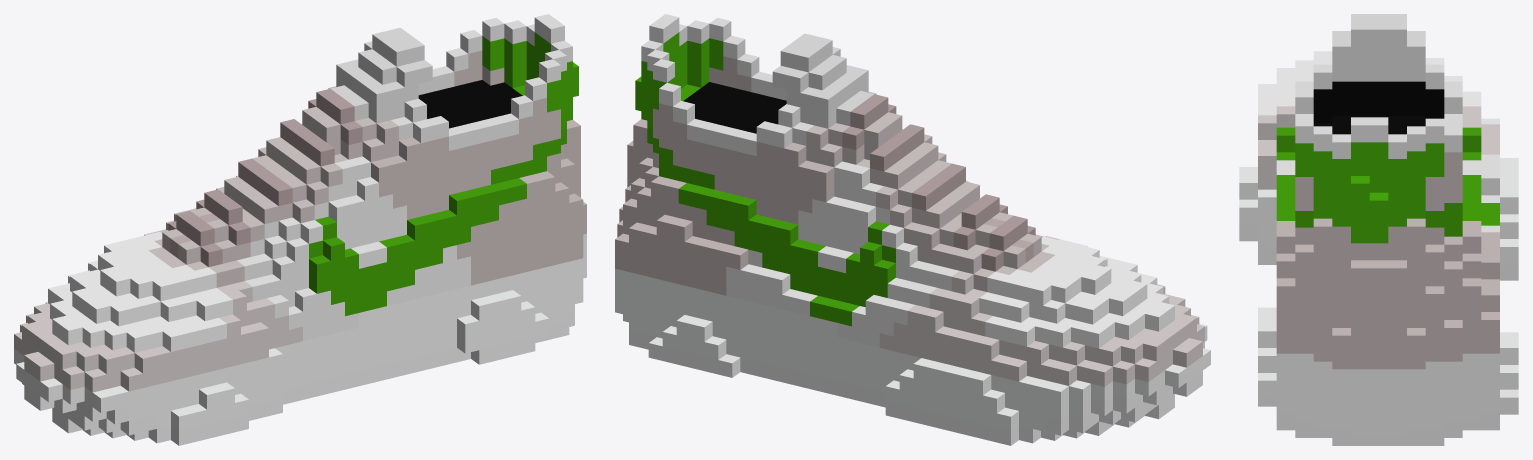
File: Blade o Grass.fbx
The picture shows the model from 3 angles, left to right: view 1: azimuth 30°, elevation 25°; view 2: azimuth 150°, elevation 25°; view 3: azimuth 270°, elevation 25°; orthographic projection. The views are drawn at different scales.
Visible parts, largest first — view 1: Untitled; view 2: Untitled; view 3: Untitled.
Boxes of the visible parts, x1,y1,x2,y2 form: Untitled: (14,14,586,445); Untitled: (615,14,1210,445); Untitled: (1239,14,1518,445).
Size of the model in its own units: 390 by 200 by 150.
